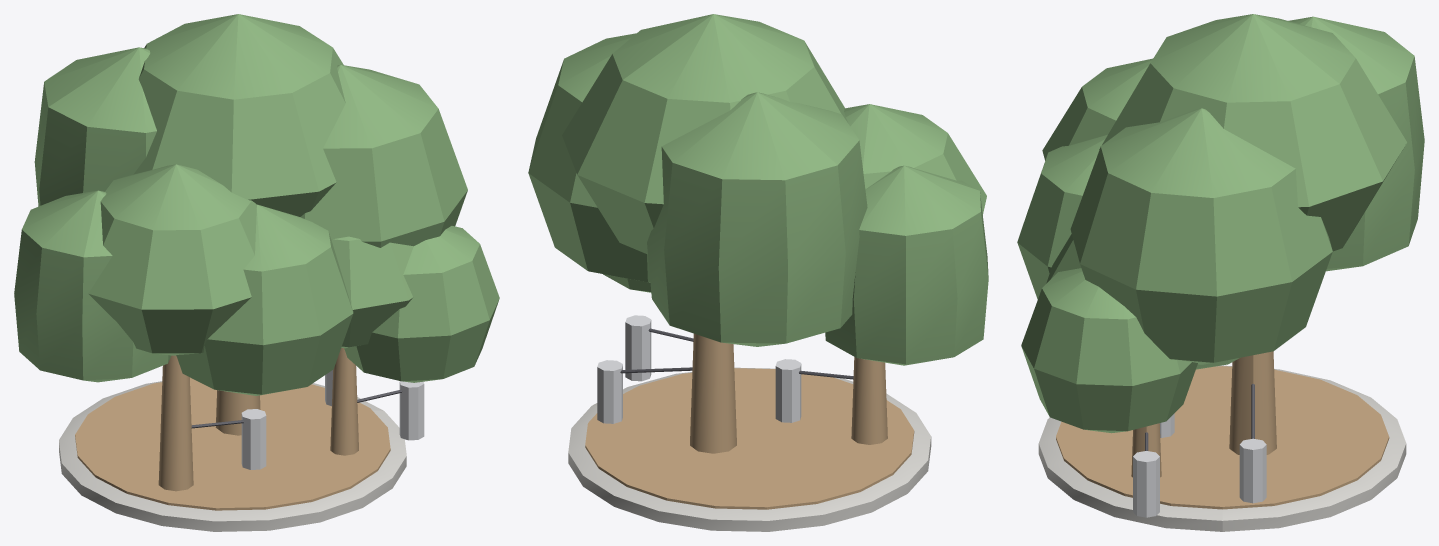
File: motorway-services-and-truck-park-tree-clump-323b7ad6__35966.glb
3 renders of one model, left to right at view 1: azimuth 30°, elevation 25°; view 2: azimuth 150°, elevation 25°; view 3: azimuth 270°, elevation 25°, orthographic. The views are drawn at different scales.
Visible parts, largest first — view 1: tree-clump; view 2: tree-clump; view 3: tree-clump.
Boxes of the visible parts, x1=… form: tree-clump: x1=14, y1=14, x2=499, y2=531; tree-clump: x1=528, y1=14, x2=988, y2=531; tree-clump: x1=1017, y1=14, x2=1424, y2=531.
Bounding box in the file's own units: 4.16 × 4.06 × 3.33.
